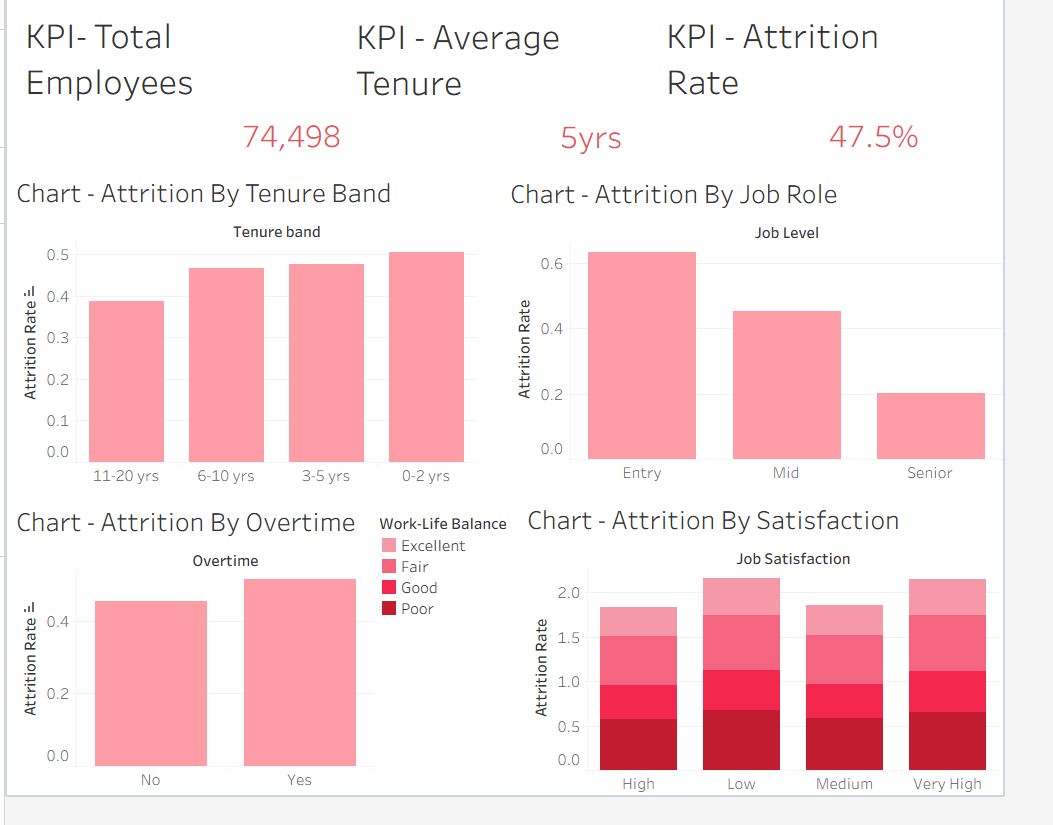

The dashboard page shown, as its layout file describes it:
{"tool":"tableau","page":{"name":"Dashboard 1","canvas":[1000,800],"ordinal":0},"visuals":[{"type":"worksheet","title":"KPI- Total Employees","mark":"Automatic","box":[16,11,324,188]},{"type":"worksheet","title":"KPI - Attrition Rate","mark":"Automatic","box":[657,11,261,266]},{"type":"worksheet","title":"KPI - Average Tenure","mark":"Automatic","box":[347,12,275,158]},{"type":"worksheet","title":"Chart - Attrition By Tenure Band","mark":"Automatic","rows":["Calculation_0234214773895169"],"cols":["Calculation_0234214798057475"],"box":[7,174,465,316]},{"type":"worksheet","title":"Chart - Attrition By Job Role","mark":"Automatic","rows":["Calculation_0234214773895169"],"cols":["Job Level"],"box":[501,175,497,312]},{"type":"worksheet","title":"Chart - Attrition By Satisfaction","mark":"Automatic","rows":["Calculation_0234214773895169"],"cols":["Job Satisfaction"],"box":[518,501,476,297]},{"type":"worksheet","title":"Chart - Attrition By Overtime","mark":"Automatic","rows":["Calculation_0234214773895169"],"cols":["Overtime"],"box":[7,503,500,291]},{"type":"legend","title":"Chart - Attrition By Satisfaction","param":"[federated.11irepc1y2a23w1ecxmme1cppfve].[none:Work-Life Balance:nk]","box":[374,516,140,194]}]}

Visuals, with their boxes in screenshot pixels (x1, y1, x2, y2), scaled from the page's 1000x800 canvas onto the 1053x825 screenshot:
"KPI- Total Employees" worksheet: Rect(17, 11, 358, 205)
"KPI - Attrition Rate" worksheet: Rect(692, 11, 967, 286)
"KPI - Average Tenure" worksheet: Rect(365, 12, 655, 175)
"Chart - Attrition By Tenure Band" worksheet: Rect(7, 179, 497, 505)
"Chart - Attrition By Job Role" worksheet: Rect(528, 180, 1051, 502)
"Chart - Attrition By Satisfaction" worksheet: Rect(545, 517, 1047, 823)
"Chart - Attrition By Overtime" worksheet: Rect(7, 519, 534, 819)
"Chart - Attrition By Satisfaction" legend: Rect(394, 532, 541, 732)
